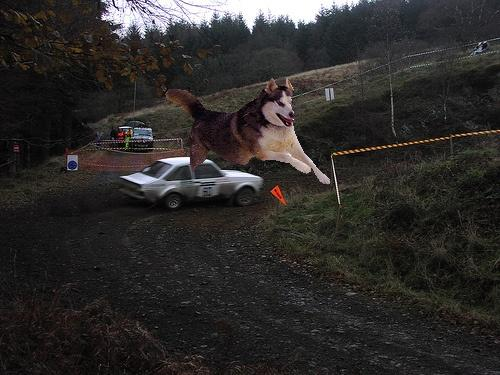tampered: (166, 78, 330, 184)
